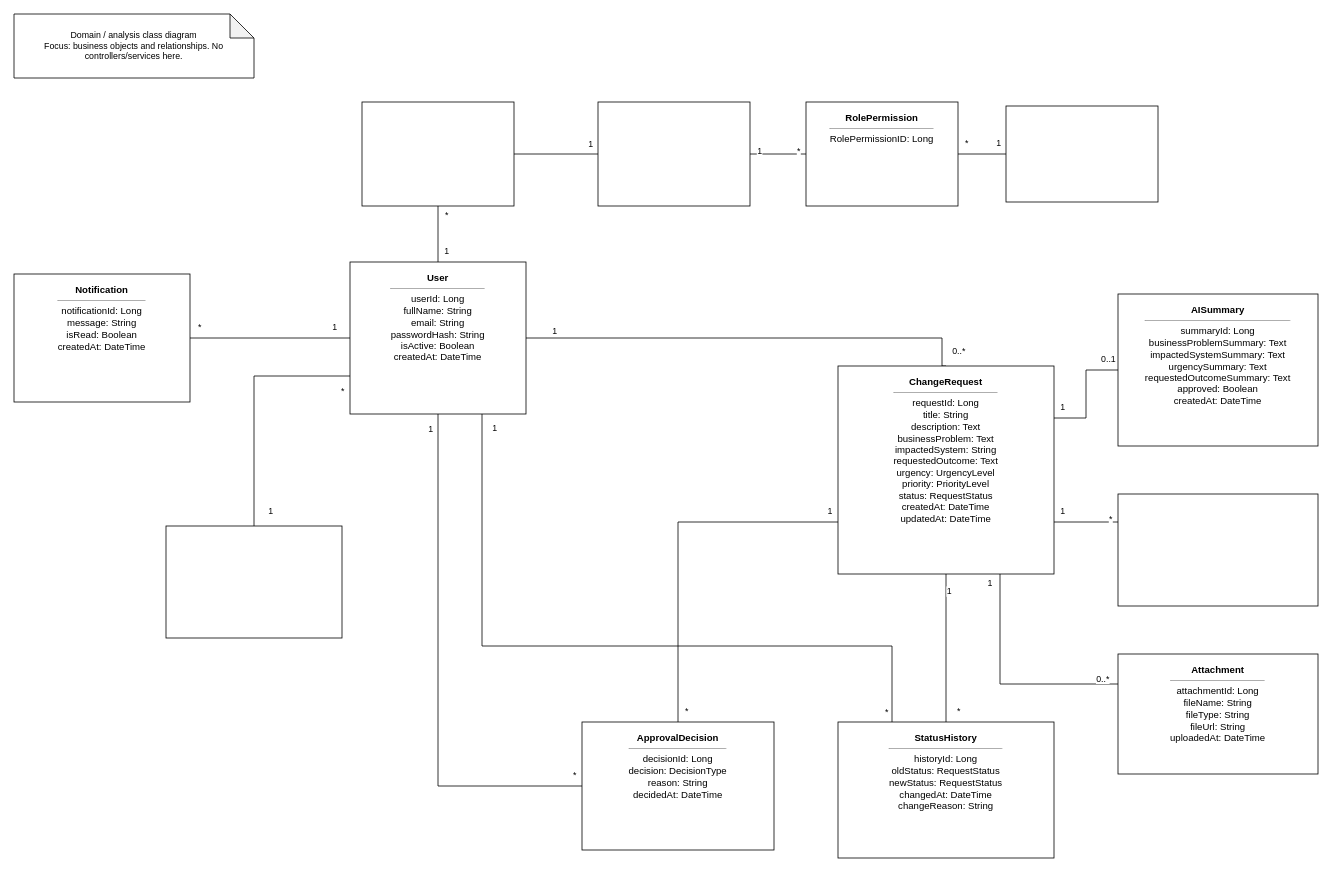
The diagram is 1332 pixels wide and 872 high, and some of its shapes have lost their labels. The box of each missing label's shape, as (x1, y1, x2, y2) in pixels:
Comment commentId: Long content: Text createdAt: DateTime updatedAt: DateTime: (1117, 493, 1318, 606)
Department departmentId: Long departmentName: String description: String: (165, 525, 342, 638)
Permission permissionId: Long permissionName: String: (1005, 105, 1158, 202)
Role roleId: Long roleName: String description: String: (597, 101, 750, 206)
RoleAssignment AssignmentID: Long Date: Date: (361, 101, 514, 206)
